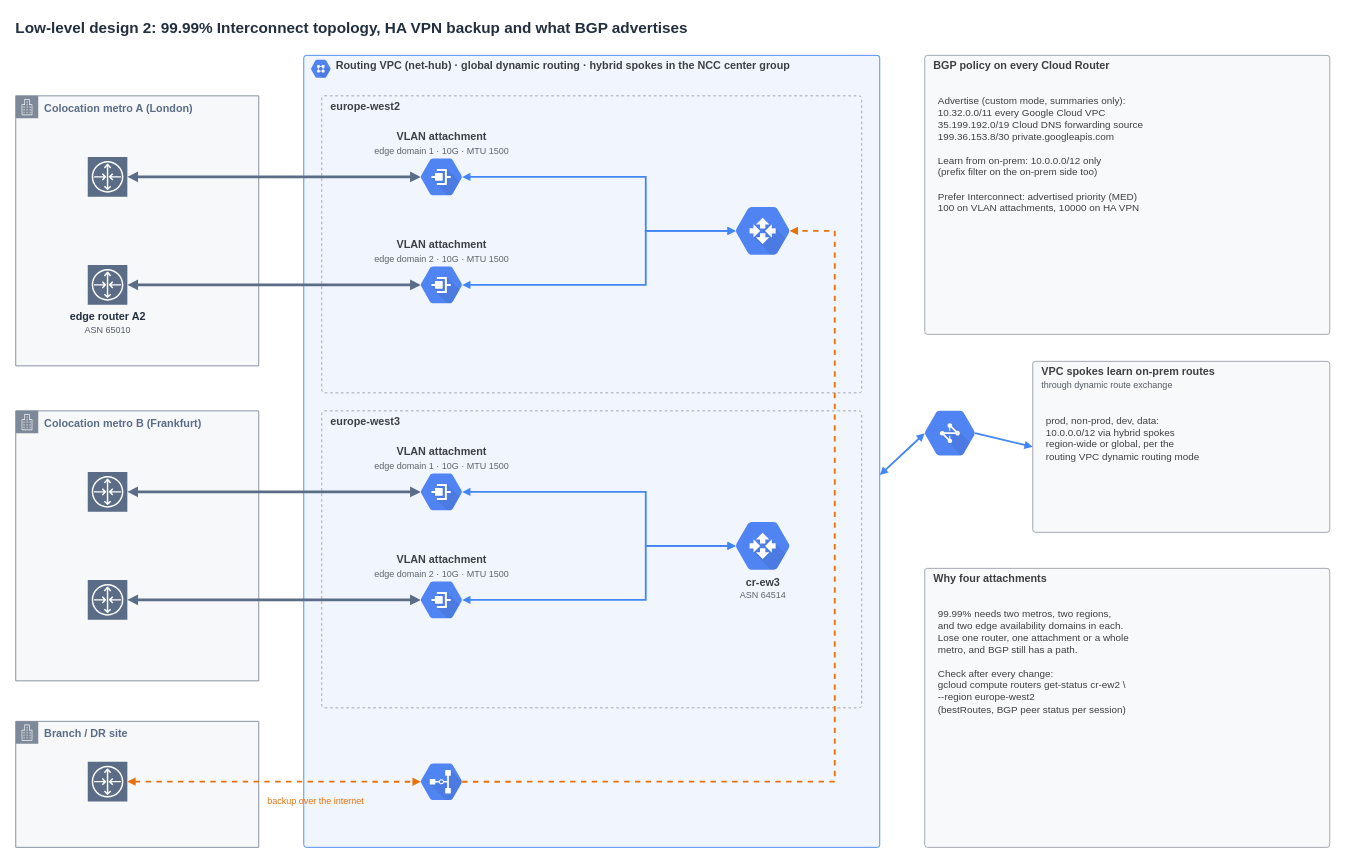
This 1346x863 diagram has some shape labels left out. Each missing label, with the centre of its shape:
cr-ew2 ASN 64514: the point at 762,230
edge router A1 ASN 65010: the point at 107,176
edge router B1 ASN 65010: the point at 107,491
edge router B2 ASN 65010: the point at 107,599
HA VPN · 2 tunnels, BGP advertised priority 10000: the point at 441,781
NCC hub: the point at 949,432
VPN device public IP: the point at 107,781
